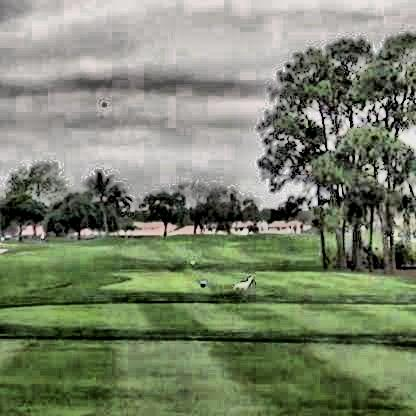golfball: (98, 99, 103, 105)
